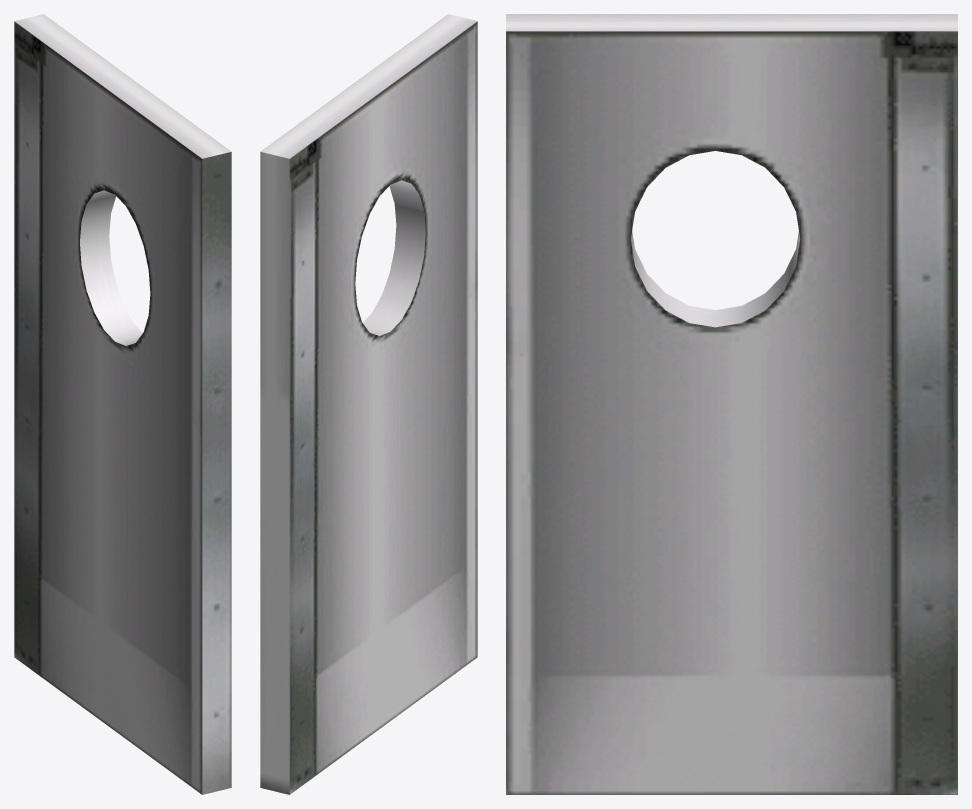
The model's file is puertacocina2.obj.
3 renders of one model, left to right at view 1: azimuth 30°, elevation 25°; view 2: azimuth 150°, elevation 25°; view 3: azimuth 270°, elevation 25°, orthographic. The views are drawn at different scales.
Parts seen in each view (by area): view 1: pasted__pasted__polySurface45 pasted__group13 group; view 2: pasted__pasted__polySurface45 pasted__group13 group; view 3: pasted__pasted__polySurface45 pasted__group13 group.
Part boxes in pixels (x1=…): pasted__pasted__polySurface45 pasted__group13 group: x1=14, y1=14, x2=231, y2=794; pasted__pasted__polySurface45 pasted__group13 group: x1=260, y1=14, x2=477, y2=794; pasted__pasted__polySurface45 pasted__group13 group: x1=506, y1=14, x2=957, y2=794.
Bounding box in the file's own units: 0.1365 × 2.82 × 1.51.
1 material, 1 textured.
